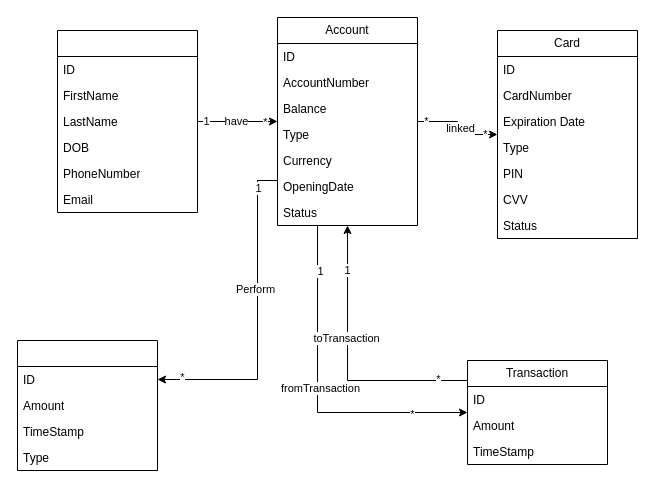
This 655x491 diagram has some shape labels left out. Here are the shapes that lost their labels. From the top down, the box of each, then its label:
(56, 30, 198, 212): Client
(16, 340, 158, 470): Operation
